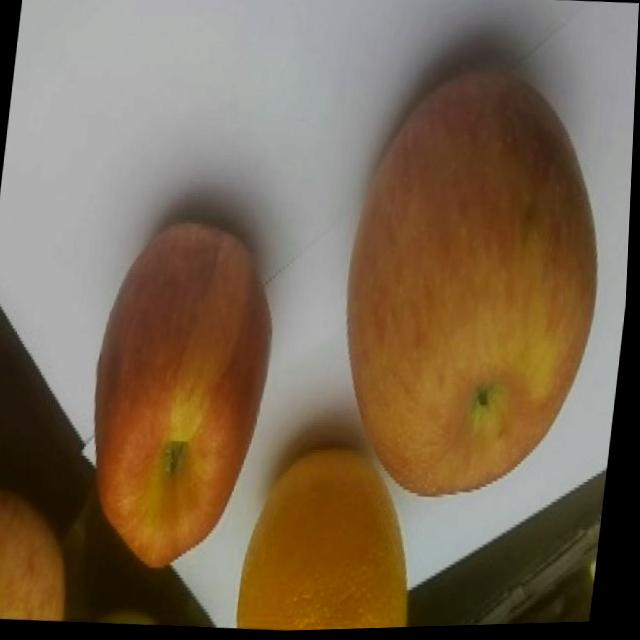Apple: (327, 59, 624, 513), (79, 214, 288, 578), (0, 482, 84, 625)
Orange: (240, 441, 433, 634)
